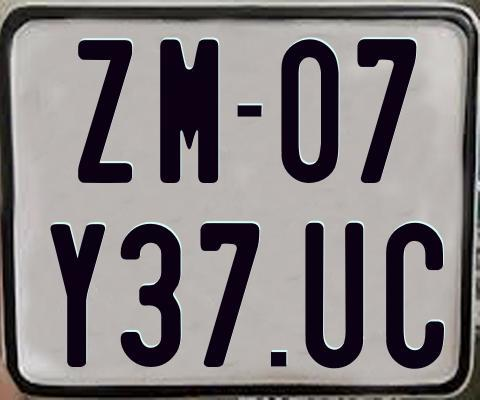0: (281, 37, 345, 183)
3: (118, 223, 179, 367)
7: (198, 223, 263, 373), (357, 38, 420, 186)
C: (386, 221, 445, 370)
M: (158, 38, 218, 182)
U: (303, 222, 362, 368)
Y: (50, 222, 109, 371)
Z: (78, 38, 133, 186)
